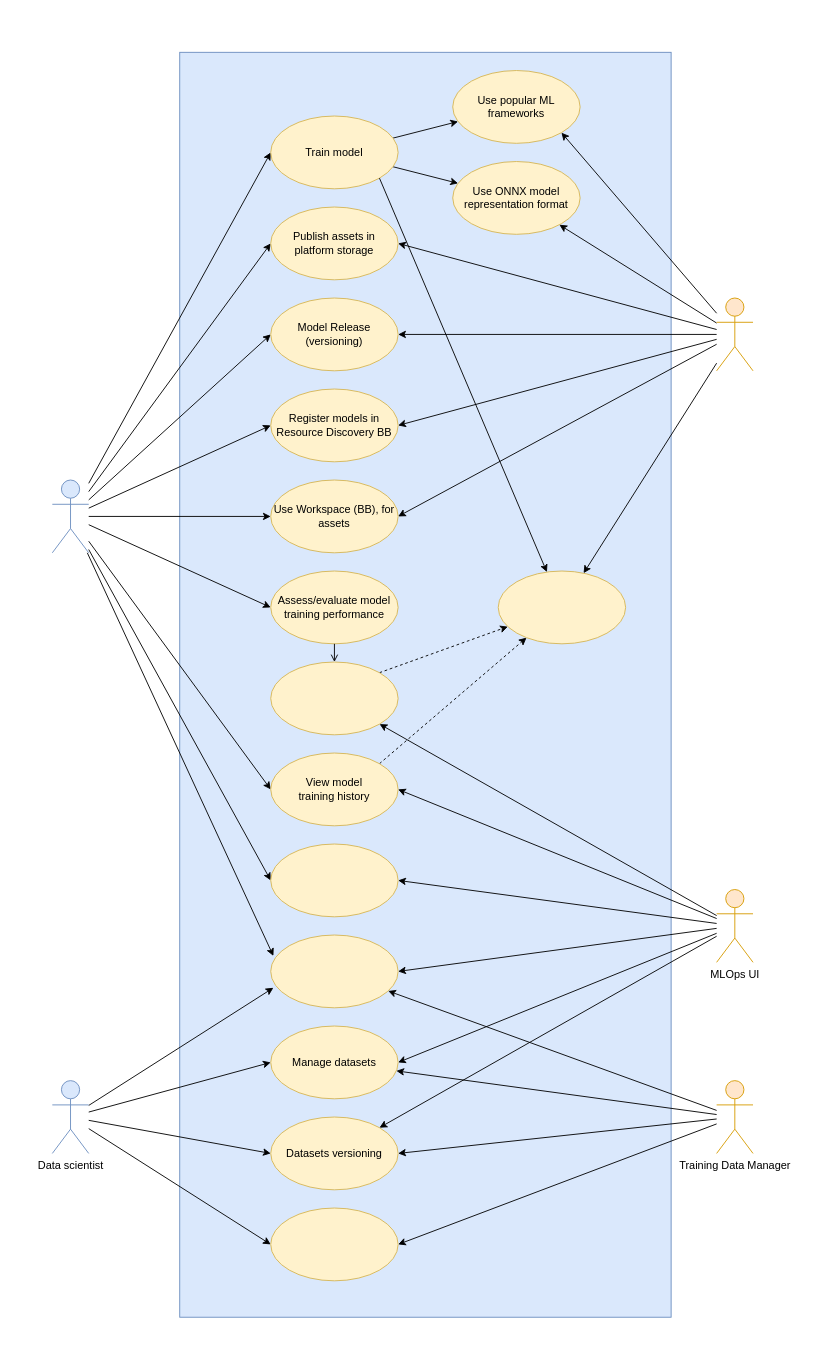
The diagram is 832 pixels wide and 1369 high, and some of its shapes have lost their labels. Here are the shapes that lost their labels. From the top down, the centre of each, then its label:
At (734,334): "Model Trainer".
At (70,516): "ML developer".
At (561,607): "Log model training with metrics".
At (334,698): "View model training run metrics".
At (334,880): "Manage model training history".
At (334,971): "Access datasets".
At (334,1244): "Register datasets in Resource Discovery BB".
